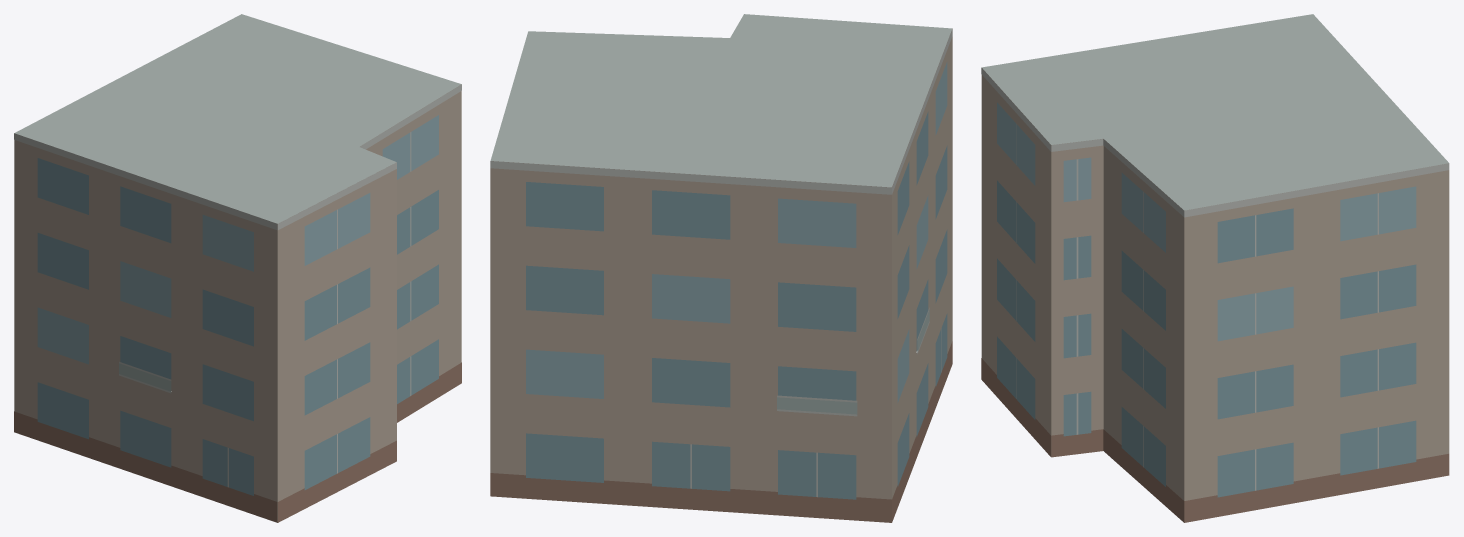
The model's file is survey-upis-32861316.glb.
The picture shows the model from 3 angles, left to right: view 1: azimuth 30°, elevation 25°; view 2: azimuth 150°, elevation 25°; view 3: azimuth 270°, elevation 25°; orthographic projection. The views are drawn at different scales.
Visible parts, largest first — view 1: survey-upis-32861316.tmp; view 2: survey-upis-32861316.tmp; view 3: survey-upis-32861316.tmp.
Part boxes in pixels (x1,y1,x2,y2): survey-upis-32861316.tmp: (14,14,461,522); survey-upis-32861316.tmp: (490,14,952,522); survey-upis-32861316.tmp: (981,14,1449,522).
Bounding box in the file's own units: 15 × 11.1 × 15.08.
